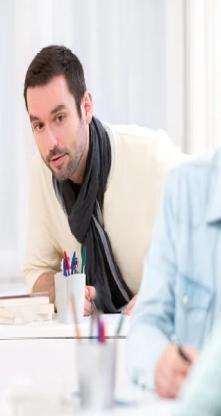cheating: (13, 37, 211, 305)
